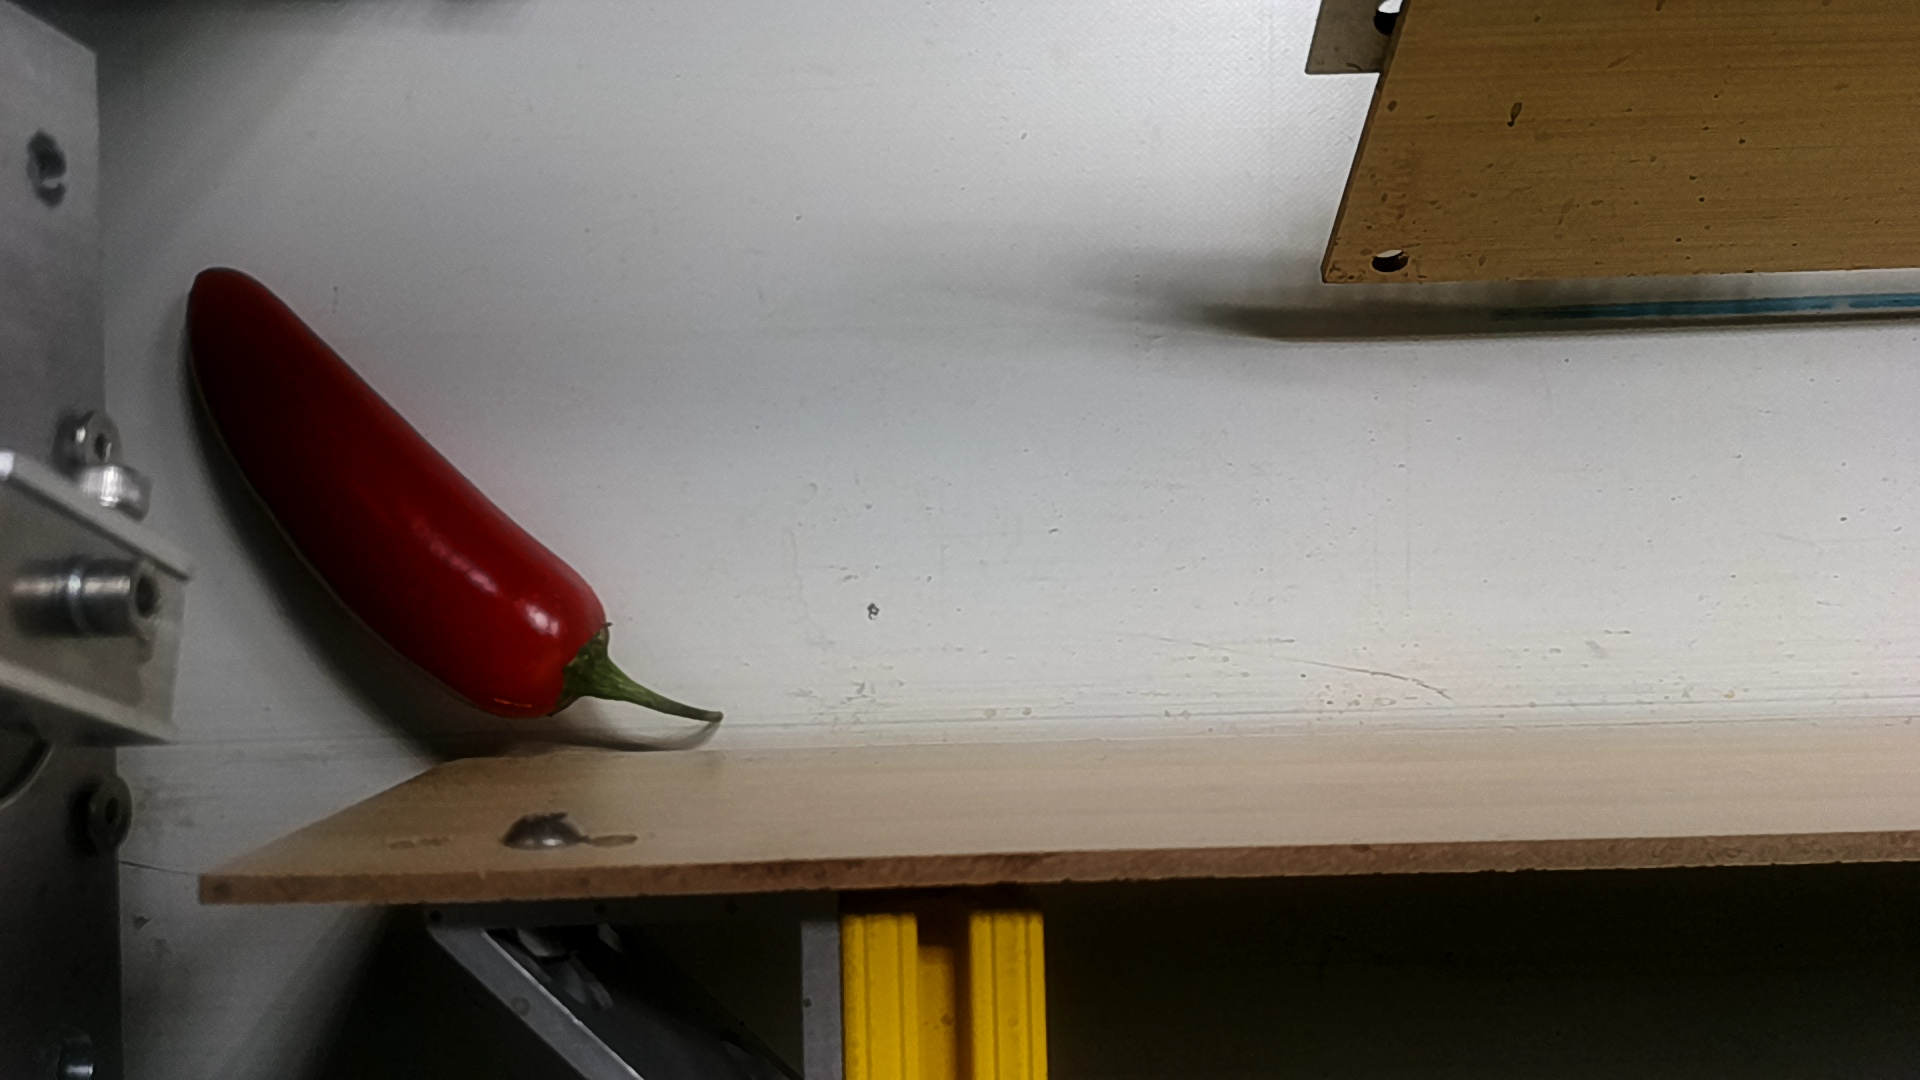Cut Point: (514, 553, 636, 736)
